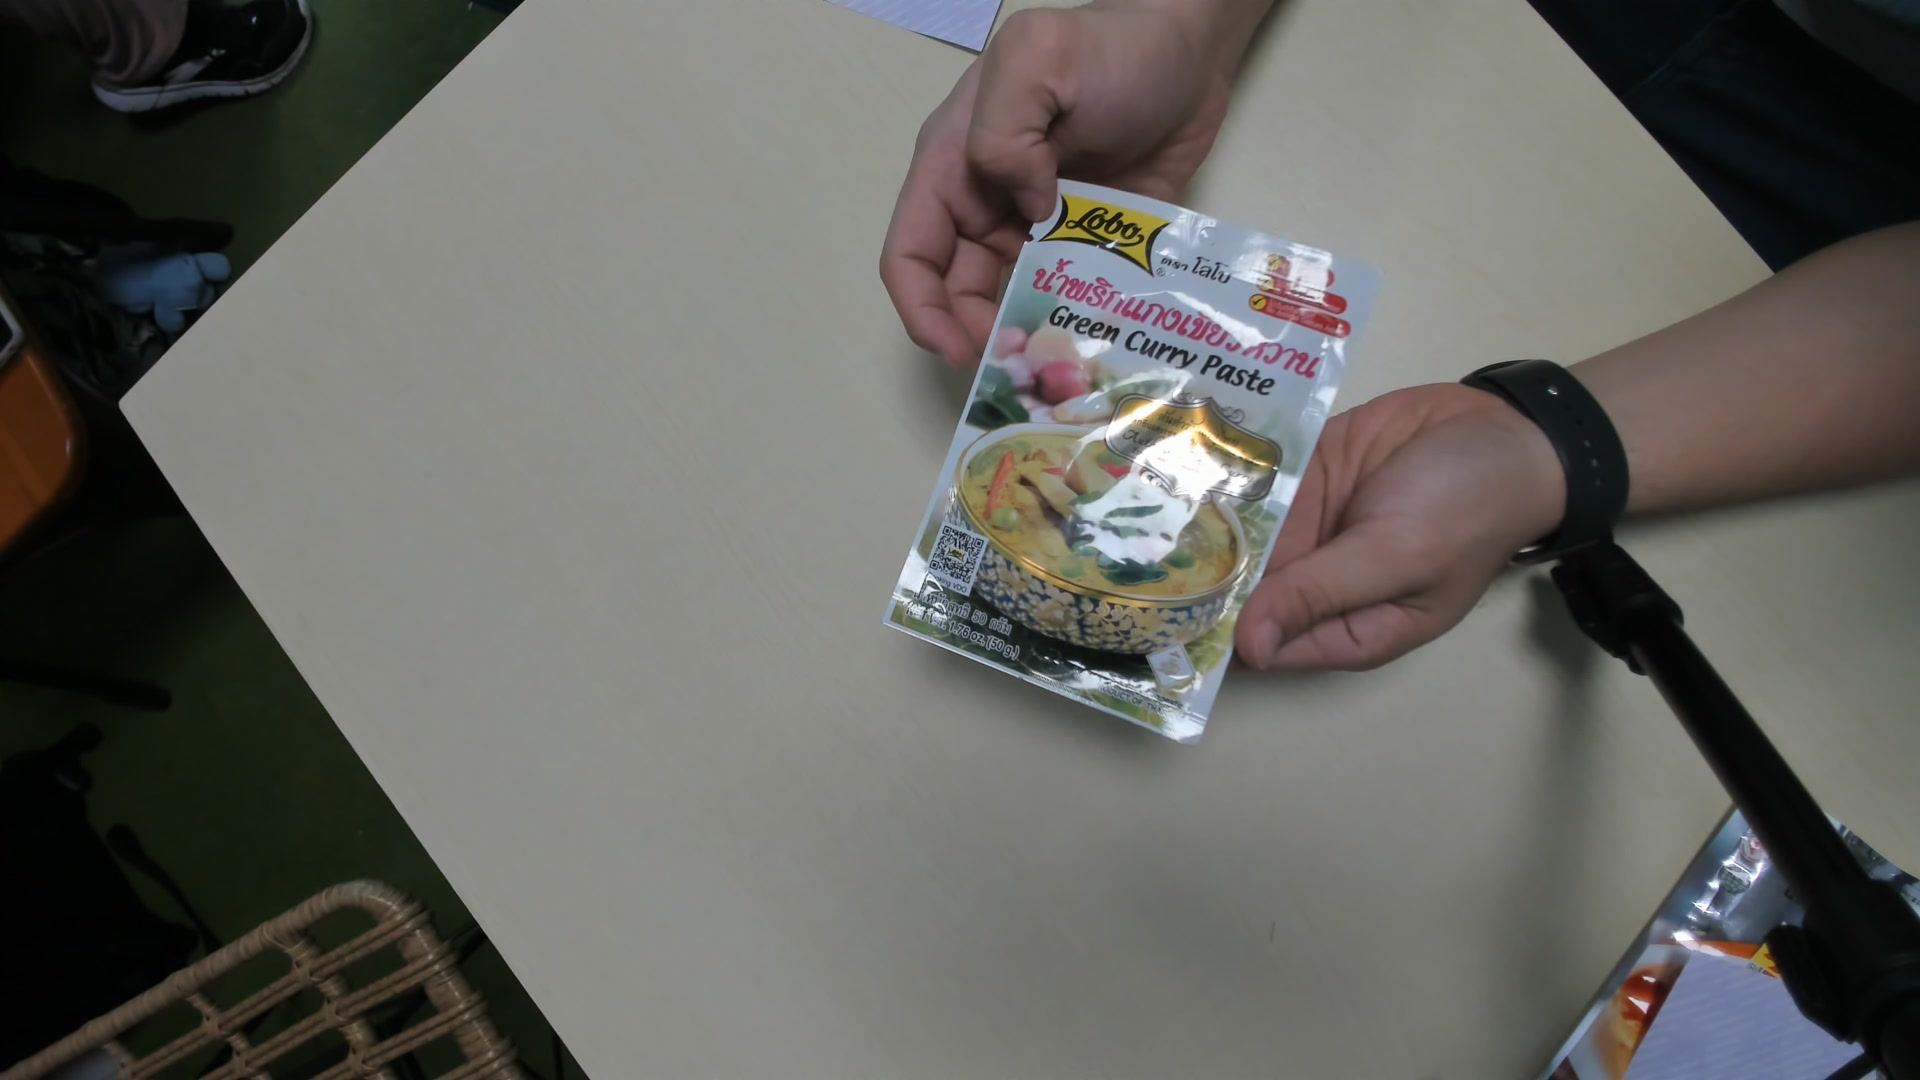CurryPastePowderSauce_0-99g_Halal_NonHealthy: (894, 183, 1371, 753)
